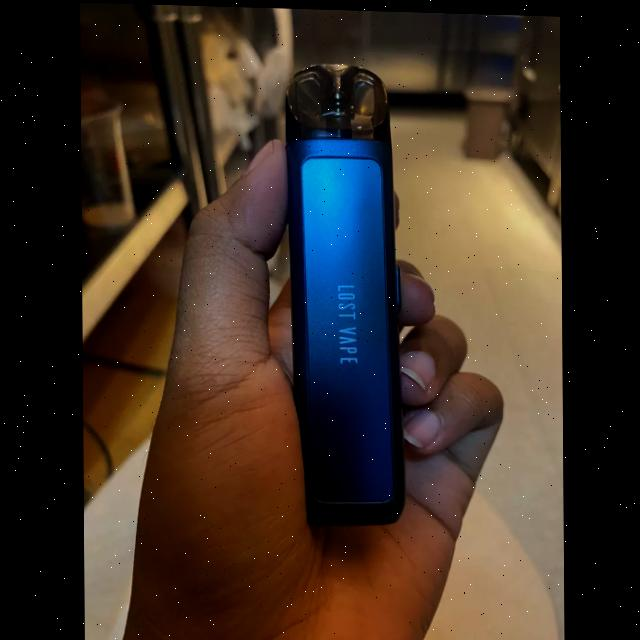vape: (283, 58, 404, 526)
